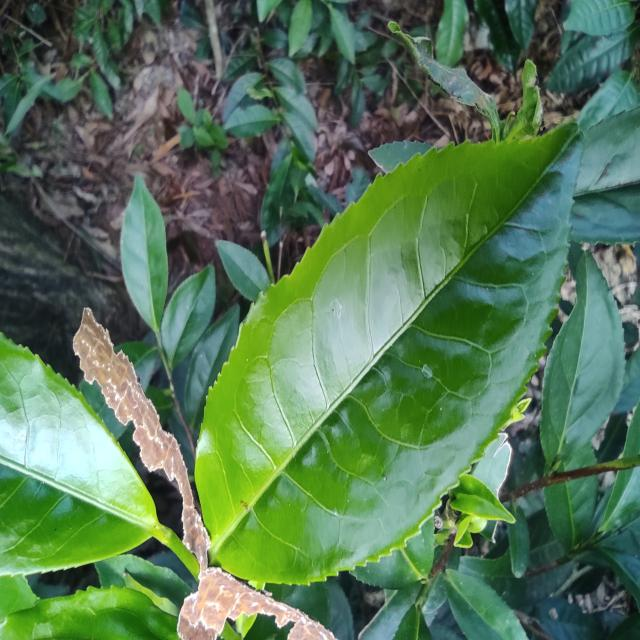Category B(2-4 days): (190, 114, 587, 589)
